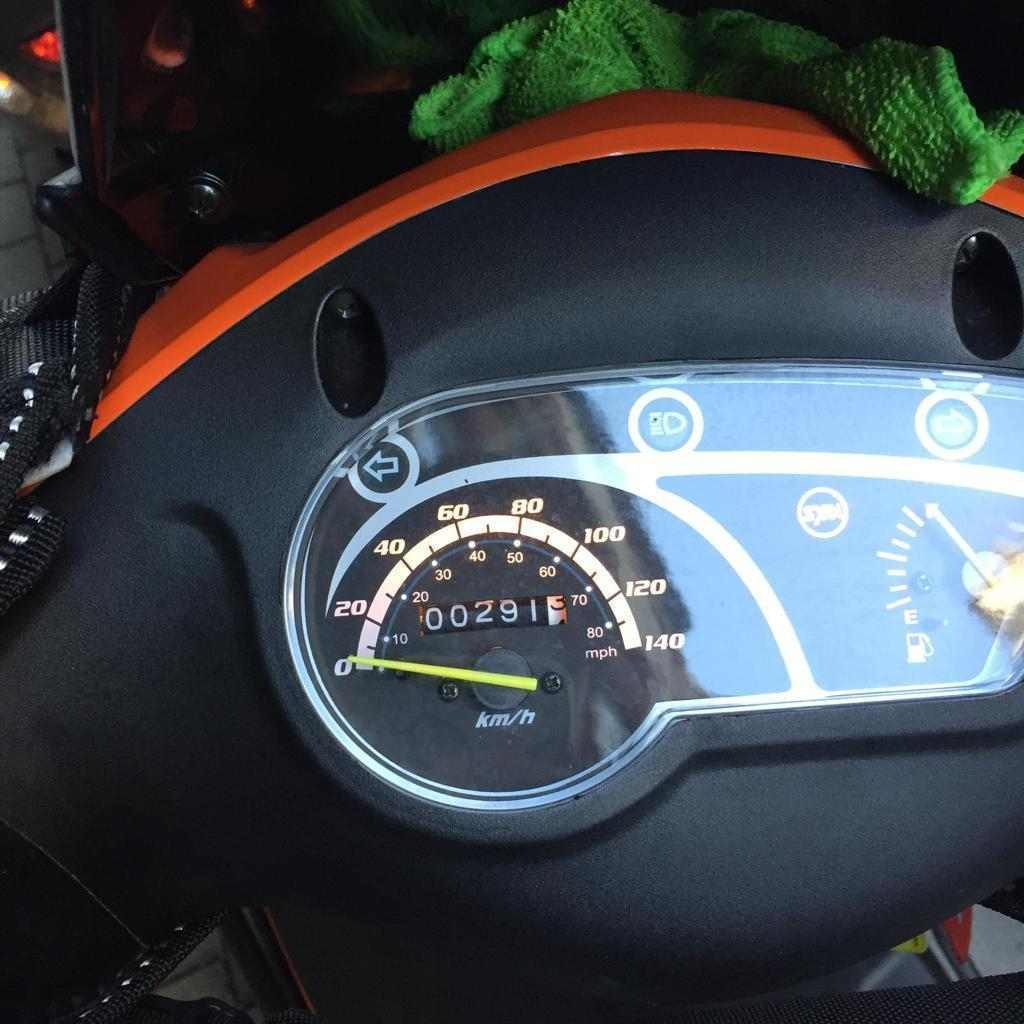0: (425, 606, 442, 630), (450, 604, 467, 627), (420, 591, 428, 602)
1: (530, 598, 537, 621)
2: (474, 600, 493, 622)
3: (549, 591, 566, 610)
9: (499, 599, 517, 622)
odometer: (418, 593, 569, 637)
